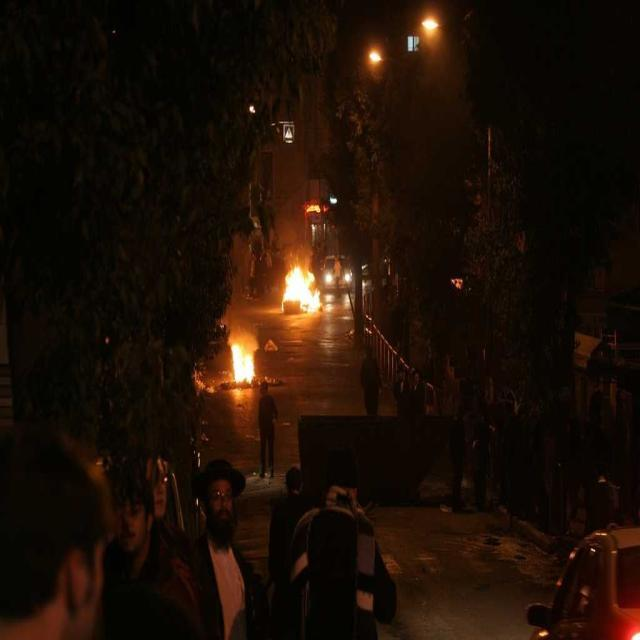Fire: (284, 260, 348, 316), (218, 331, 264, 399)
